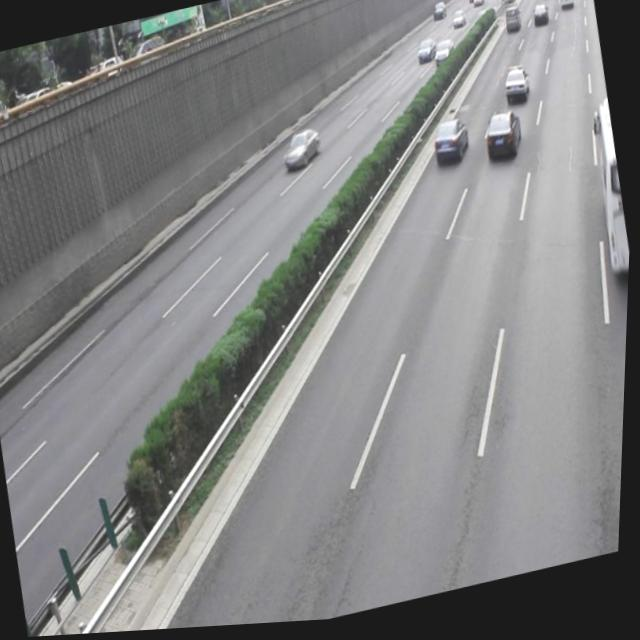car: (480, 112, 526, 171), (427, 120, 472, 174), (281, 130, 324, 175)
van: (582, 101, 636, 290)
